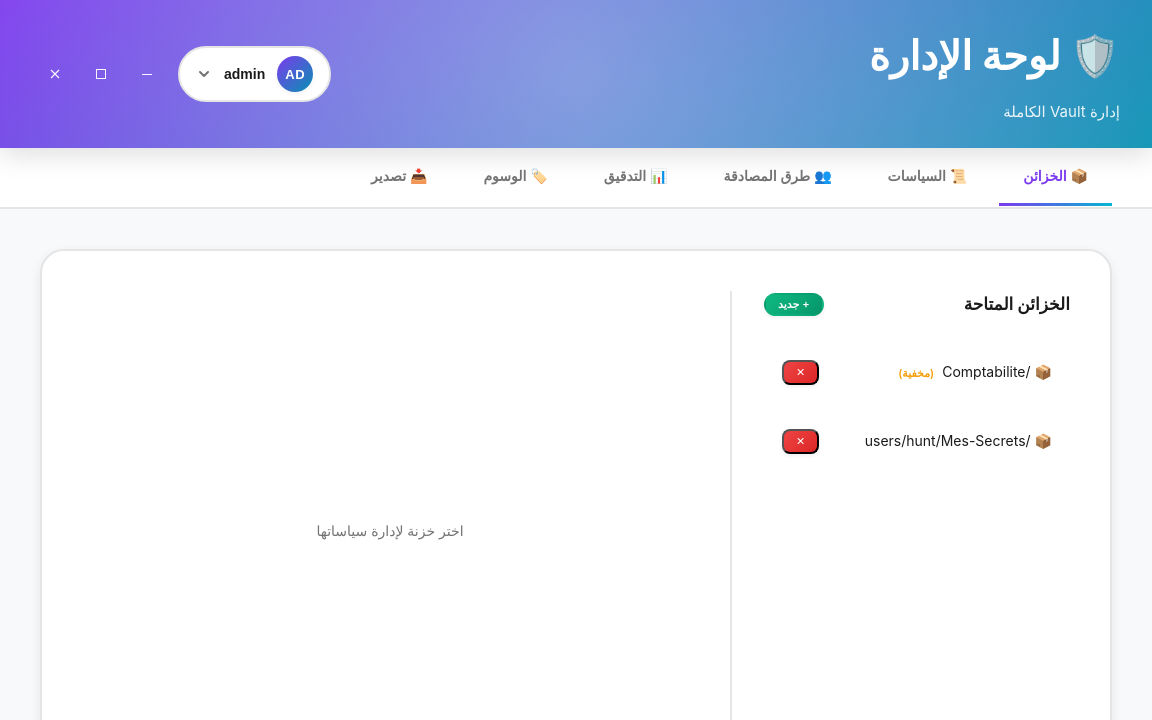
Scenario: coffres : chemins isolés en ltr avec leur barre oblique, titre du coffre sélectionné (ADMIN-11)
Click the list item with class "admin-item" showing "📦 Comptabilite/(مخفية) ✕": click(917, 373) [782,360,1052,385]
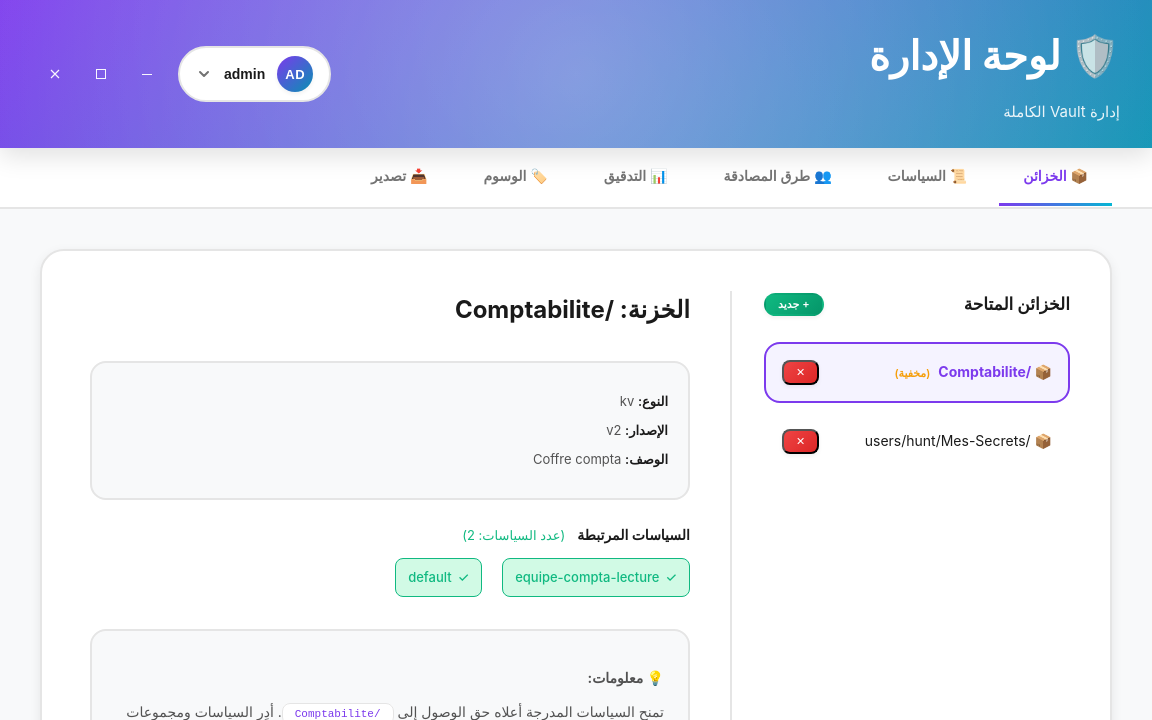
Expected: the text "equipe-compta-lecture" is shown, [515,567,660,588]
